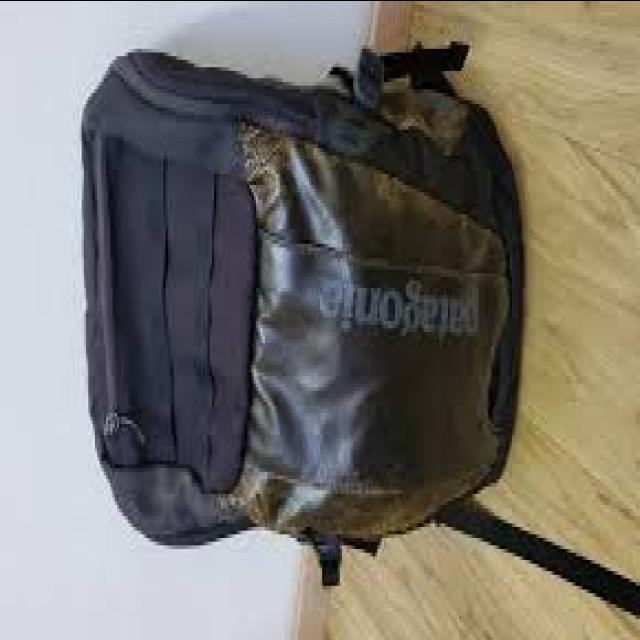backpack: (78, 42, 524, 590)
